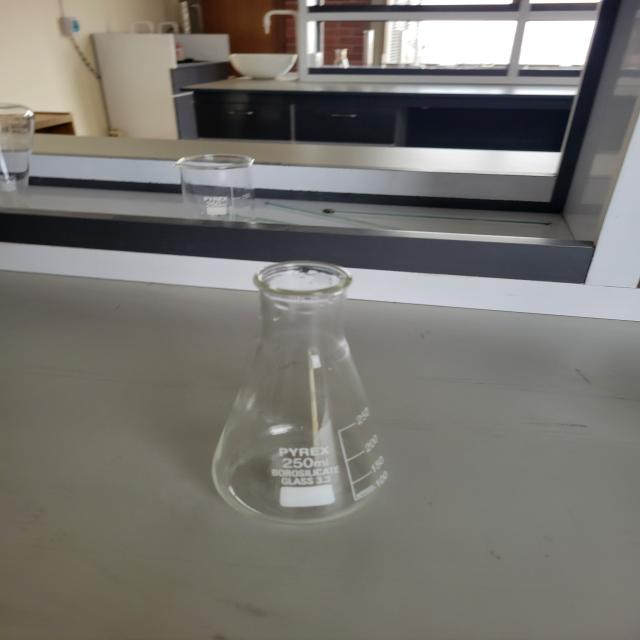Conical_Flask: (166, 234, 436, 548)
